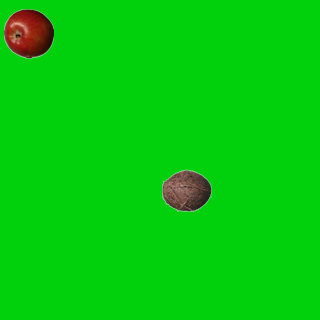Apple Braeburn: (3, 8, 53, 58)
Cocos: (161, 165, 211, 215)
